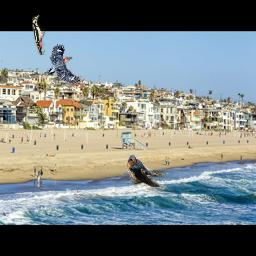Swallow: (127, 154, 167, 187)
Woodpecker: (47, 44, 81, 84), (32, 15, 46, 55)
